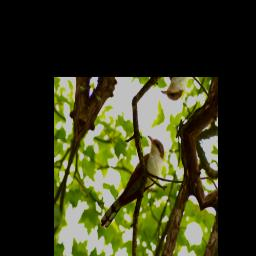Cuckoo: (99, 122, 169, 251)
